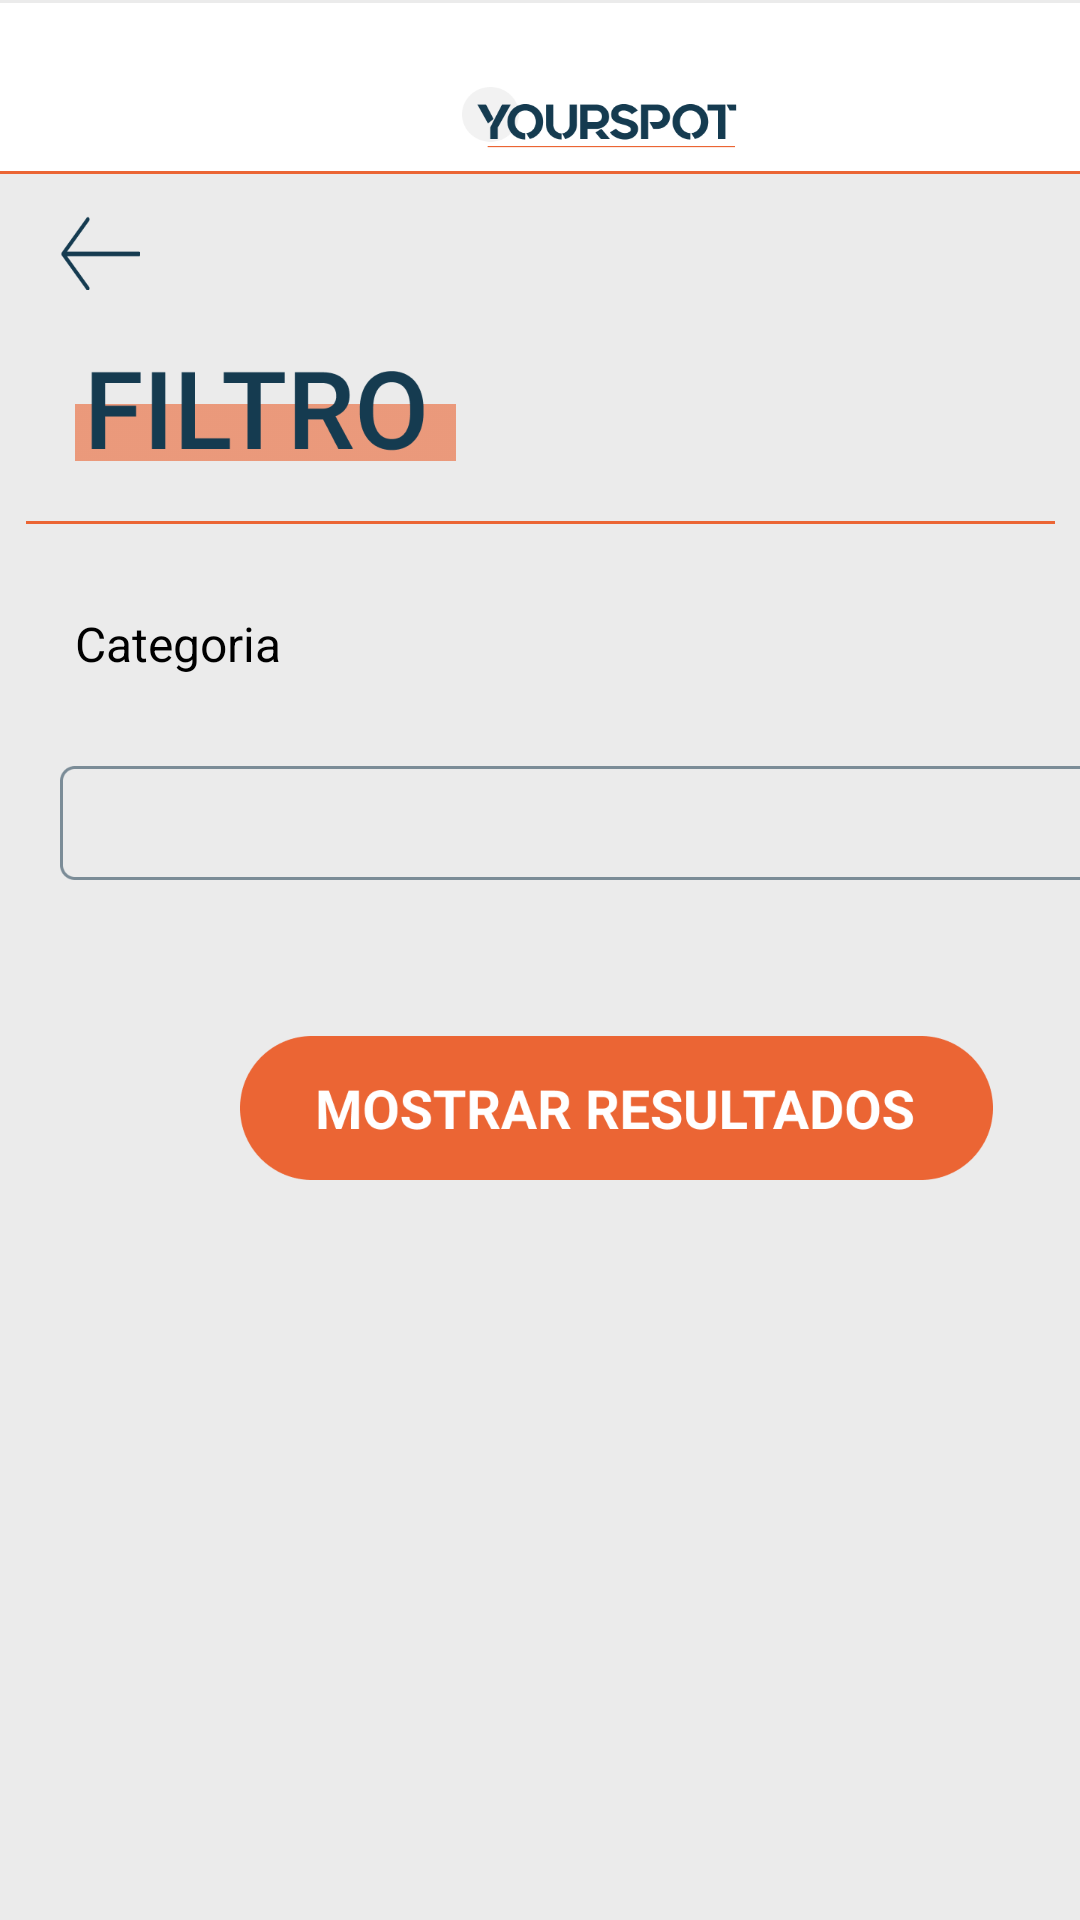

Point at icon controls on the screen. Image size 1080×1920, points as (x=x, y=y).
seta retorno: (x=100, y=253)
